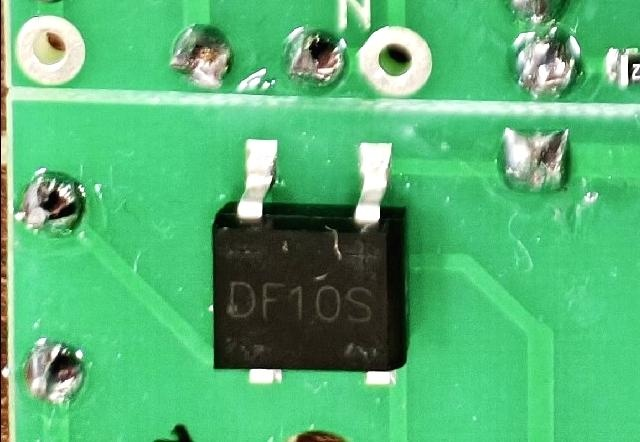ic: (206, 131, 411, 388)
